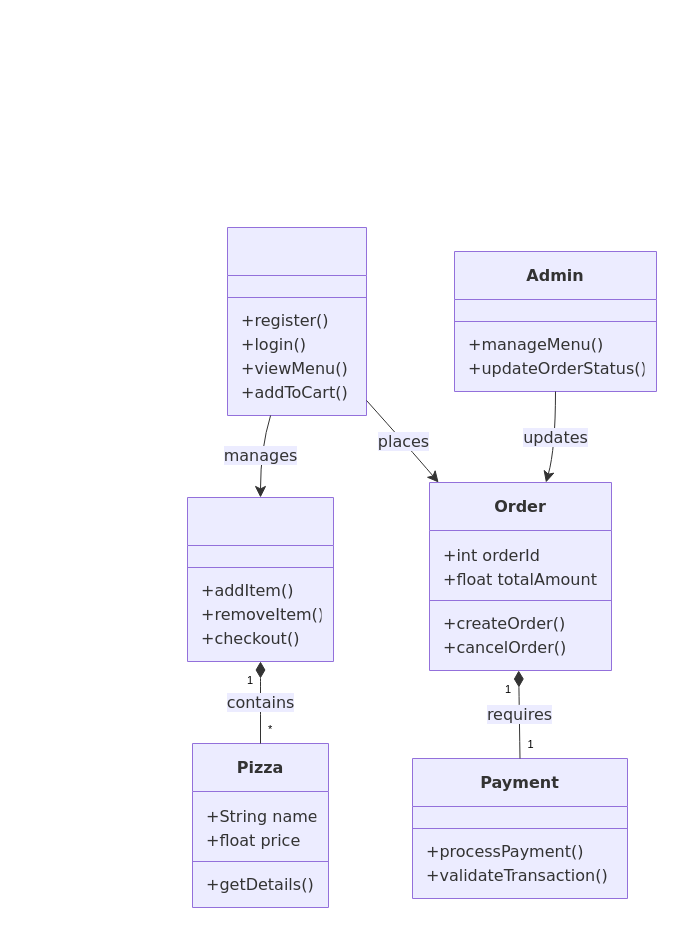
The diagram is 674 pixels wide and 925 high, and some of its shapes have lost their labels. Each missing label, with the box of its shape:
Cart: (186, 496, 334, 662)
Client: (226, 226, 366, 416)
